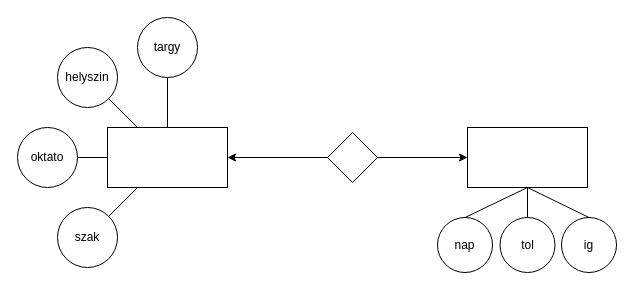
Some shapes in this 634 by 290 pixel diagram are drawn without their labels. Here are the shapes that lost their labels. From the top down, the centre of each, then its label:
At point (167, 157): "ora".
At point (527, 157): "idopont".
